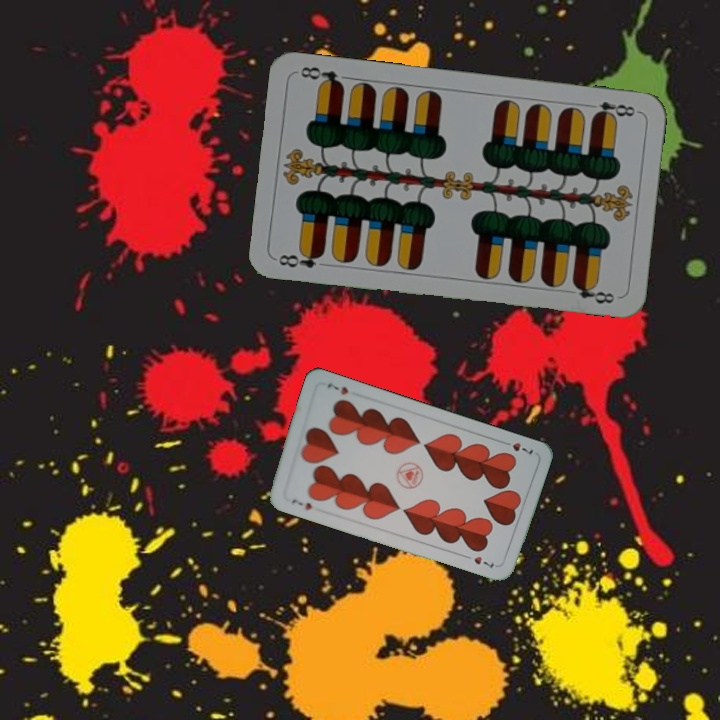E8: (582, 97, 641, 122), (275, 246, 327, 271)
H7: (498, 437, 536, 457), (287, 494, 315, 513)
